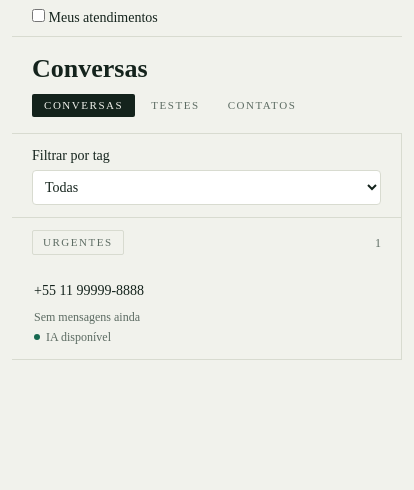
Scenario: ConversationsPanel — abas › oferece voltar da conversa para a lista no celular
Click the text "+55 11 99999-8888": click(89, 291) x1=34 y1=281 x2=144 y2=301
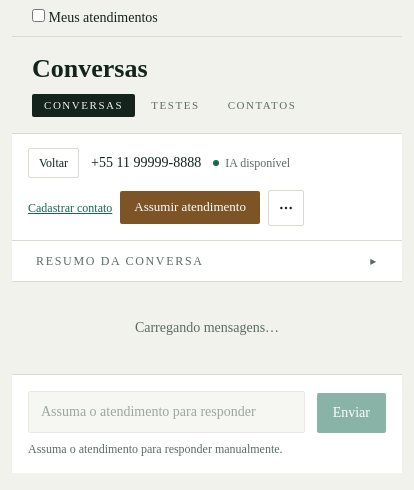
Click the button "Voltar": click(54, 163) x1=28 y1=148 x2=79 y2=178
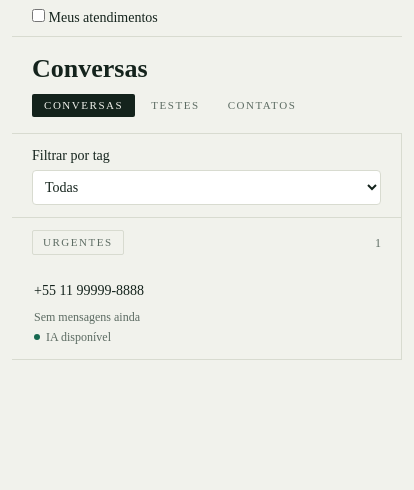
Check: the text "+55 11 99999-8888" is shown, box x1=34 y1=281 x2=144 y2=301
Check: the button "Voltar" is gone
